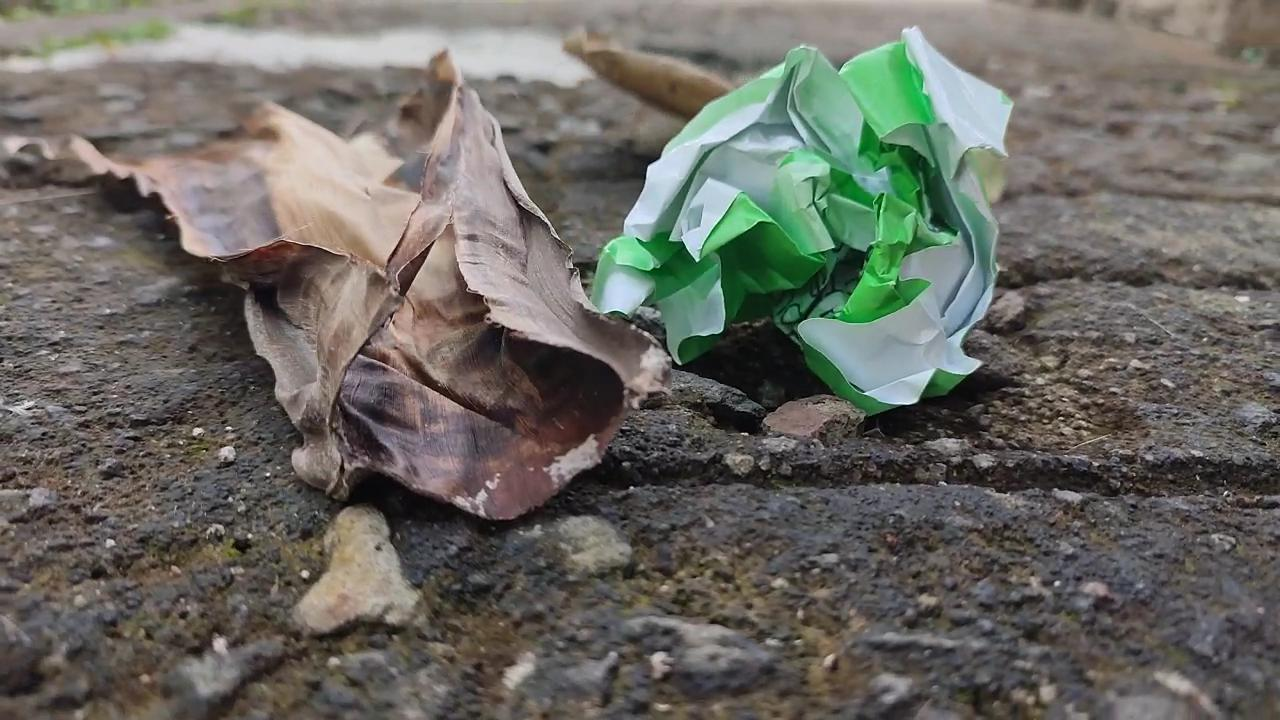Paper: (565, 1, 1025, 426)
